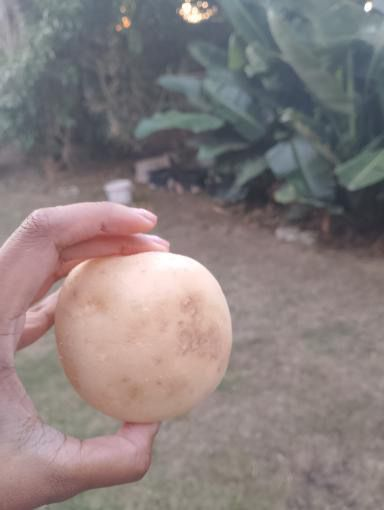potato: (47, 247, 243, 433)
